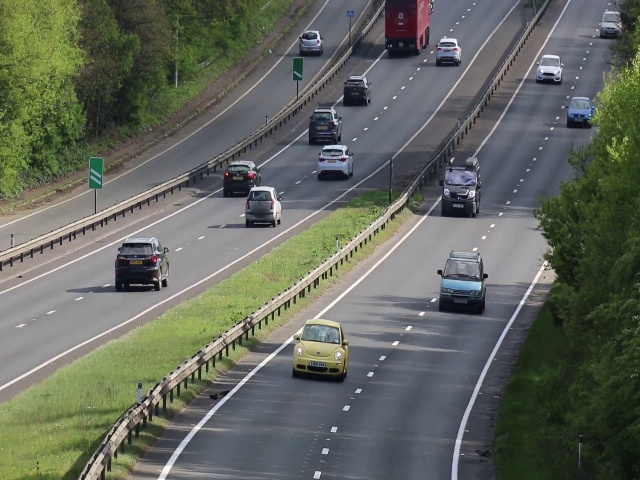car: (292, 316, 348, 382), (113, 236, 170, 292), (438, 247, 486, 311), (439, 153, 480, 215), (386, 1, 431, 53), (318, 141, 353, 177), (247, 188, 282, 224), (310, 106, 341, 144), (223, 160, 259, 192), (533, 51, 564, 82), (296, 27, 323, 58), (342, 77, 370, 106), (565, 95, 593, 124), (436, 35, 462, 66), (601, 5, 620, 37)
